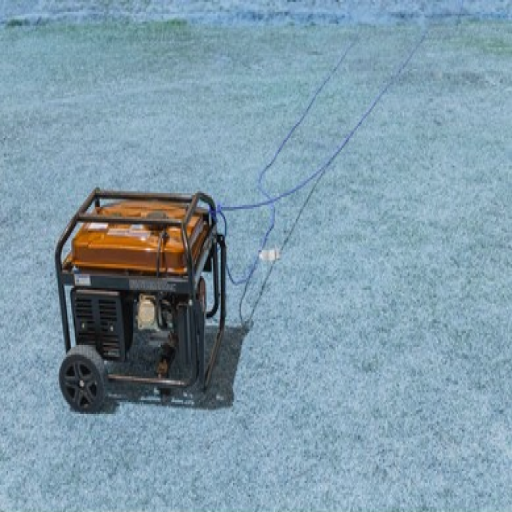portable_generator: (55, 187, 227, 392)
